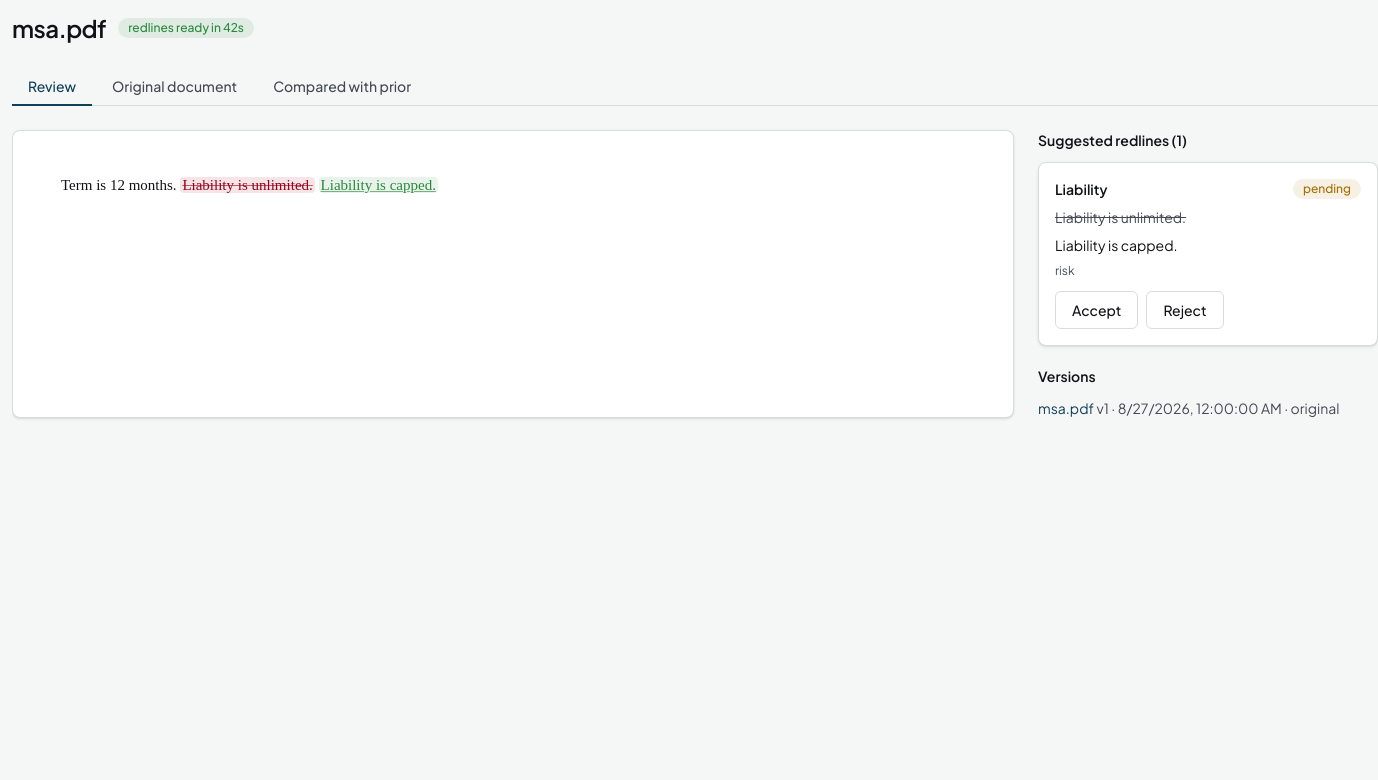
confirm failure with a failing refetch still shows the error
What coordinates should you click on to do the following:
click the button "Accept"
I would click on:
 (1097, 310)
Its box is [1055,291,1138,329].
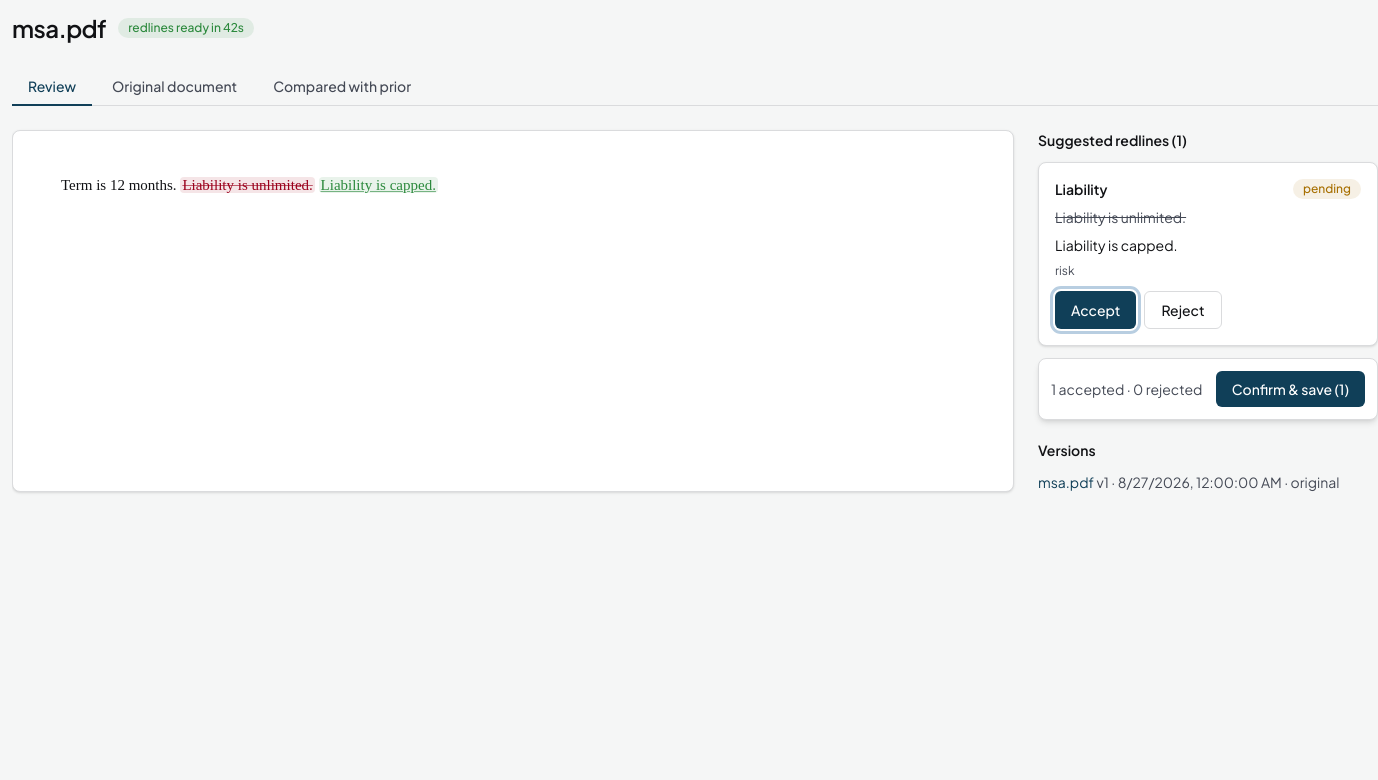
What coordinates should you click on to do the following:
click the button "Confirm & save (1)"
I would click on:
 (1290, 389)
Its box is [1216,371,1365,407].
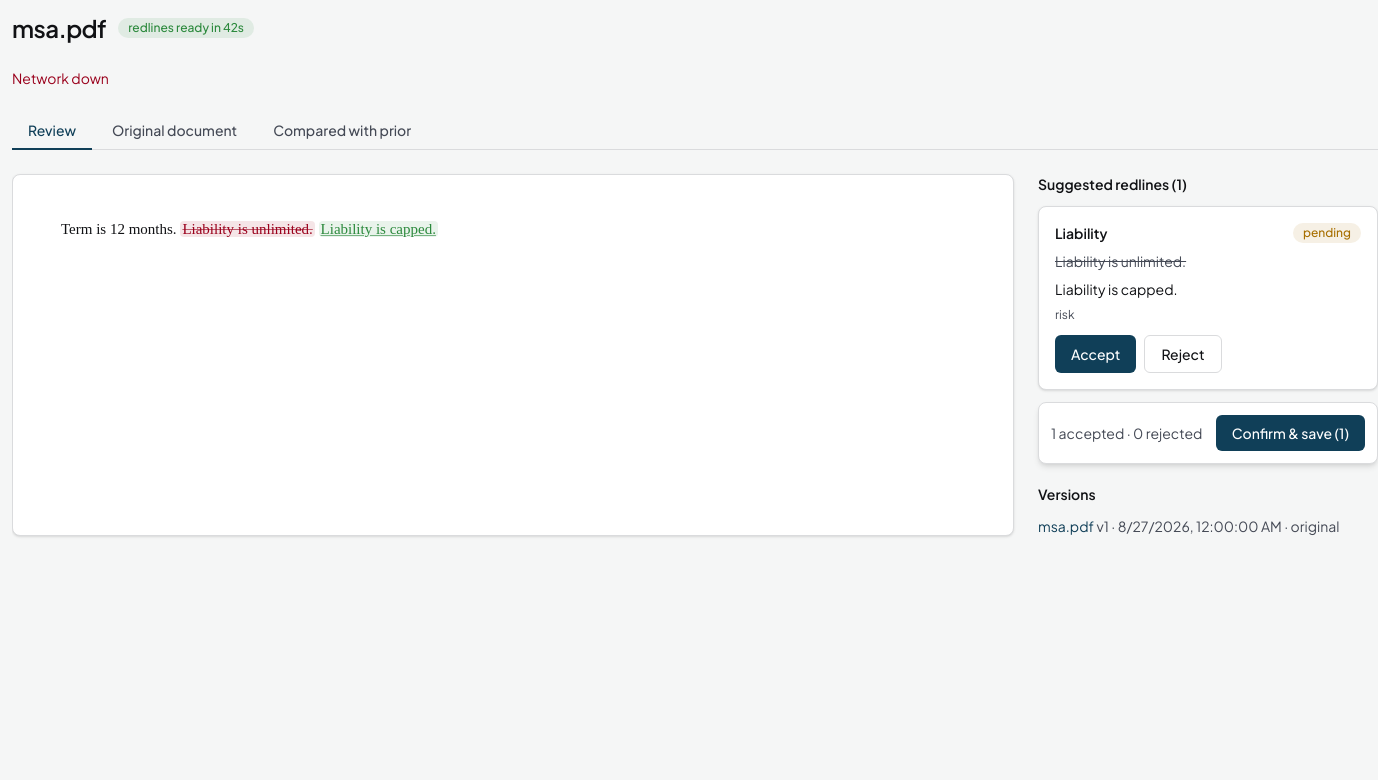
Expected: the text "Term is 12 months." is shown, [61,221,180,237]
Result: the text "Network down" is shown at [12,69,109,87]
